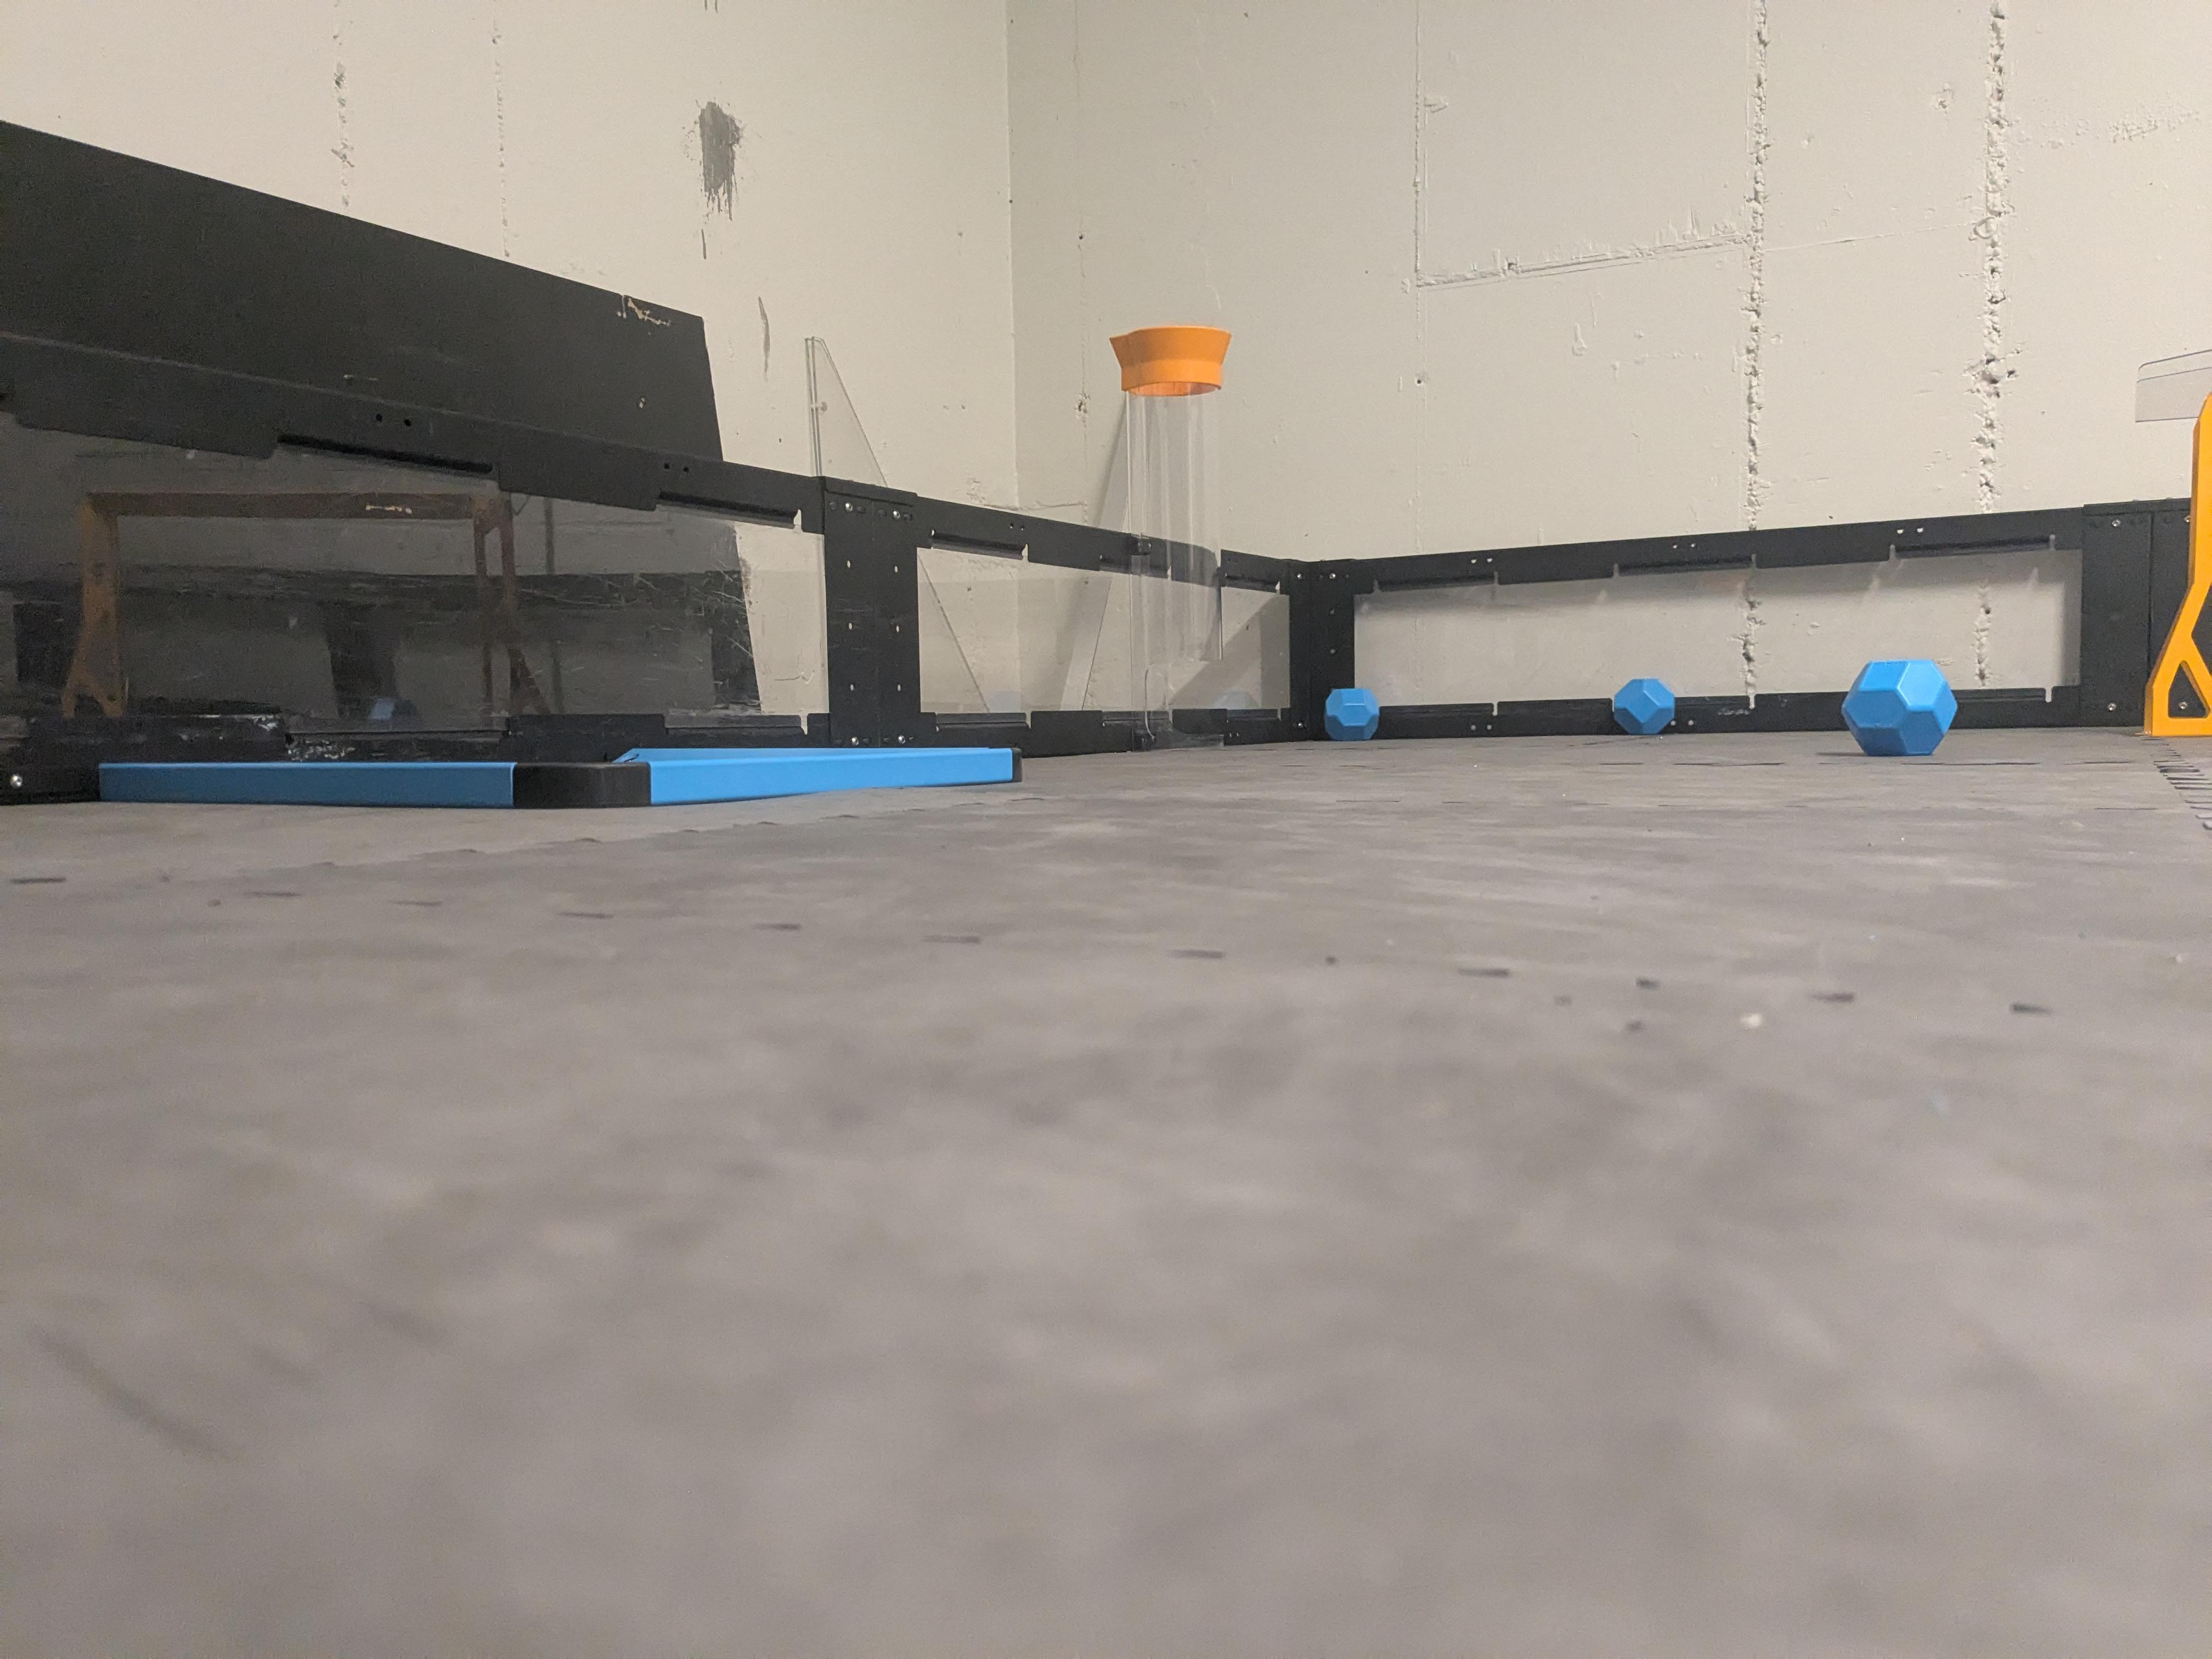Vex-Pieces-BLUE: (1848, 660, 1959, 762), (1609, 681, 1672, 735), (1322, 692, 1378, 741)
